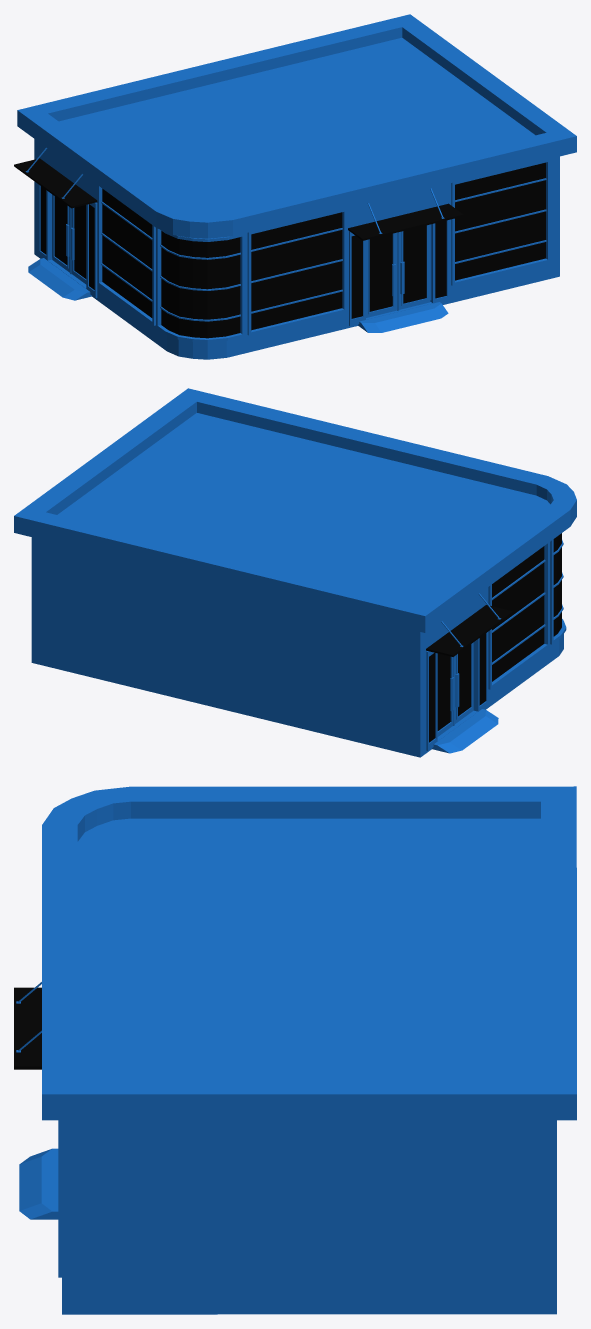
The model's file is SM_shop.fbx.
3 views of the same model, one above another, from view 1: azimuth 30°, elevation 25°; view 2: azimuth 150°, elevation 25°; view 3: azimuth 270°, elevation 25° (orthographic). The views are drawn at different scales.
Visible parts, largest first — view 1: Cube_44, roof, door3, door2, door1, door; view 2: Cube_44, roof, door, door1; view 3: Cube_44, roof.
Boxes of the visible parts, box(x1,y1,x2,y2) form: Cube_44: box(14, 14, 576, 359); roof: box(59, 37, 535, 213); door3: box(398, 224, 431, 310); door2: box(366, 232, 397, 317); door1: box(52, 194, 70, 273); door: box(70, 205, 86, 284); Cube_44: box(14, 388, 576, 757); roof: box(57, 413, 550, 602); door: box(454, 642, 473, 724); door1: box(437, 653, 454, 736); Cube_44: box(14, 786, 576, 1314); roof: box(77, 818, 540, 1079).
Bounding box in the file's own units: 1200 × 400 × 893.
